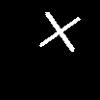single_crochet: (39, 12, 80, 51)
